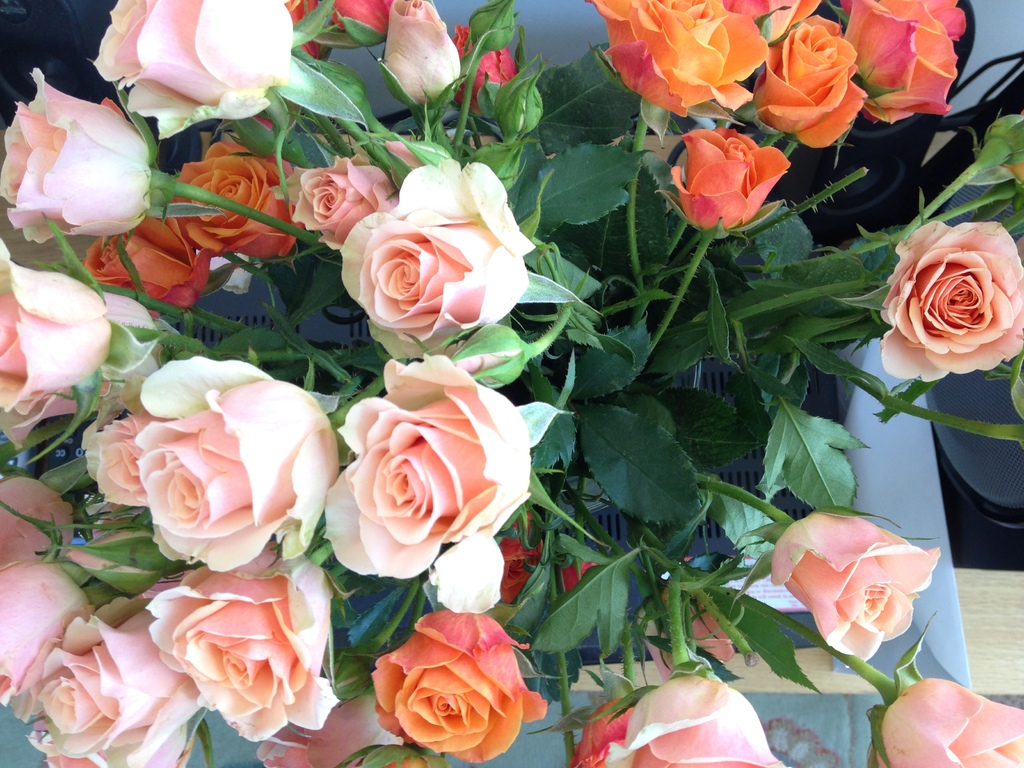face: (297, 169, 376, 226)
